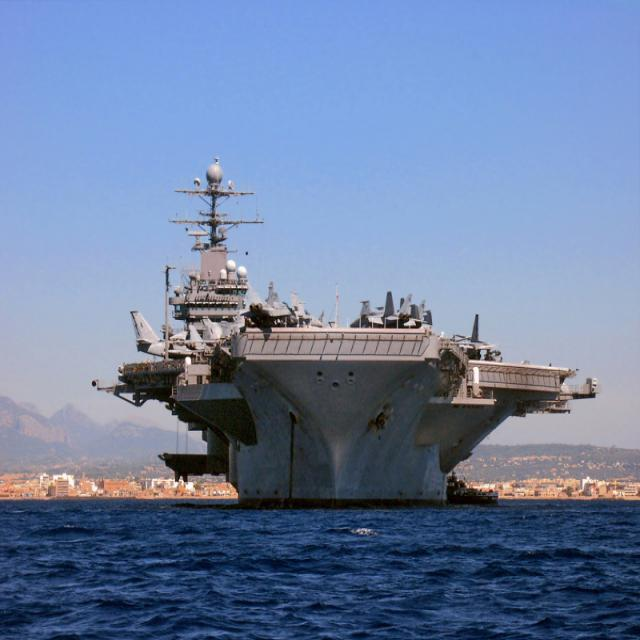Portanaves: (91, 152, 604, 511)
